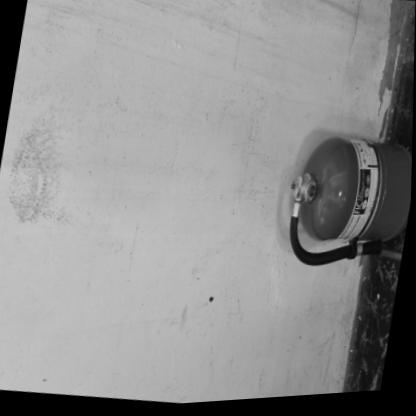FE: (282, 131, 413, 285)
